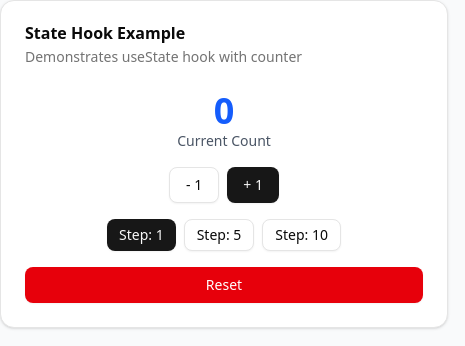
Counter › changes step to 5 and increments correctly
Click the button "Step: 5" at (219, 235), box [184, 219, 254, 251]
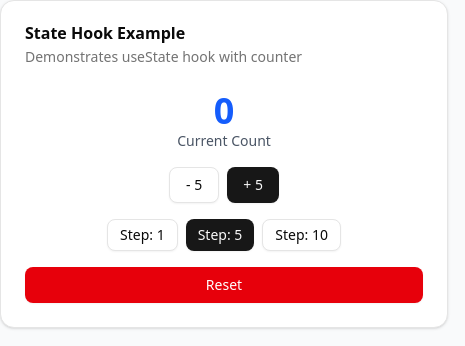
Click the button "+ 5" at (253, 185), box [227, 167, 279, 203]
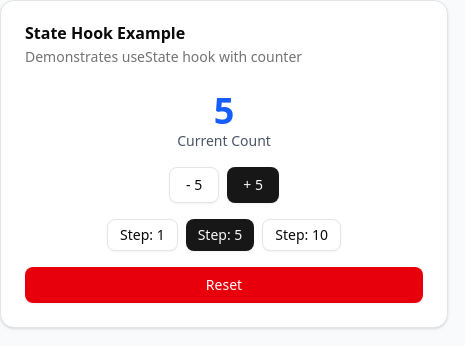
Expected: the text "5" is shown, [214, 86, 234, 135]
